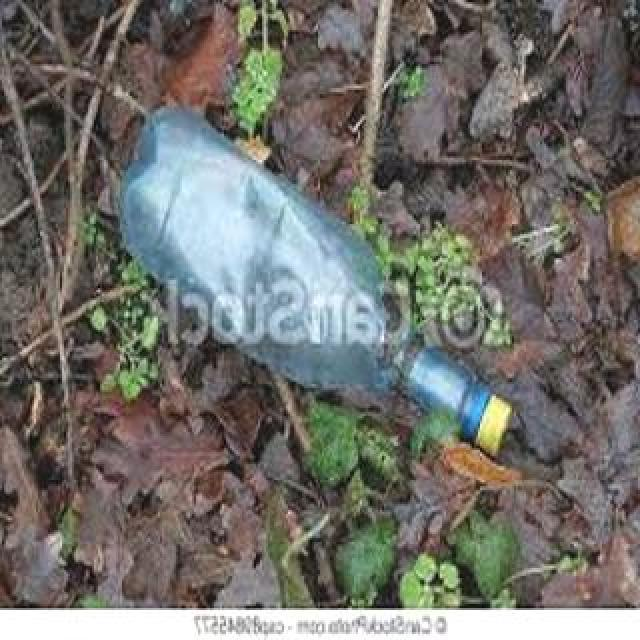Pet_Bottle: (119, 106, 445, 428)
